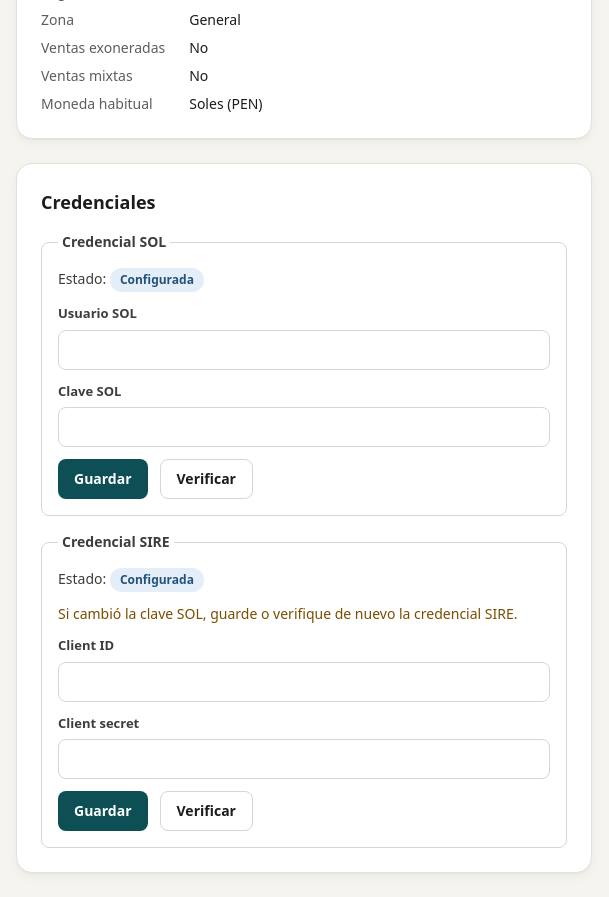
Test: /clientes/:id · credenciales (007b) › verificar (D6, CA-5) › Credencial SIRE: POST …/sire_api/verificar con CSRF y sin cuerpo; muestra el trabajo y enlaza al panel
The width and height of the screenshot is (609, 897).
(page scrolled)
Click the button "Verificar" below "Client secret": (206, 811) [160,791,253,831]
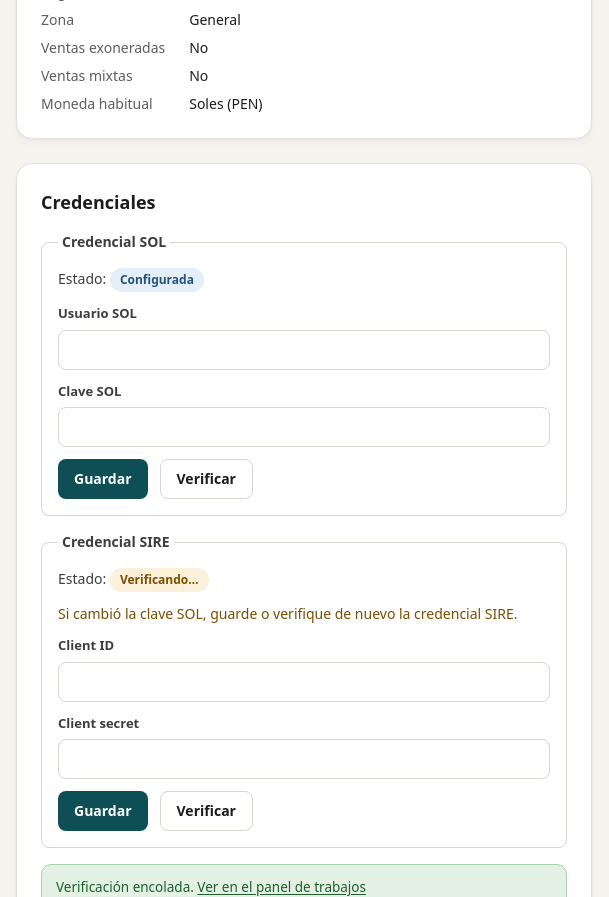
Expected: the text "Verificación encolada." is shown, [56,878,194,896]
